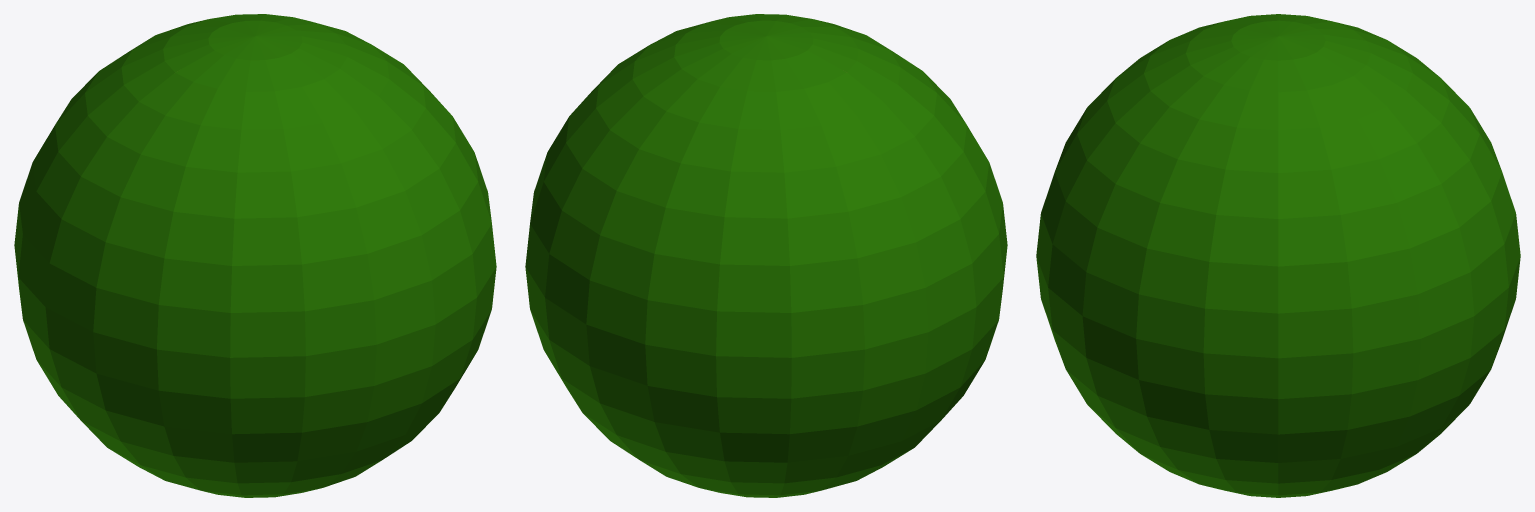
File: SM_powerup_wall.fbx
3 views of the same model, side by side, from view 1: azimuth 30°, elevation 25°; view 2: azimuth 150°, elevation 25°; view 3: azimuth 270°, elevation 25° (orthographic).
Visible parts, largest first — view 1: SM_powerup_wall; view 2: SM_powerup_wall; view 3: SM_powerup_wall.
Part boxes in pixels (x1=…): SM_powerup_wall: x1=14, y1=14, x2=496, y2=497; SM_powerup_wall: x1=525, y1=14, x2=1007, y2=497; SM_powerup_wall: x1=1036, y1=14, x2=1520, y2=497.
Bounding box in the file's own units: 200 × 200 × 200.
